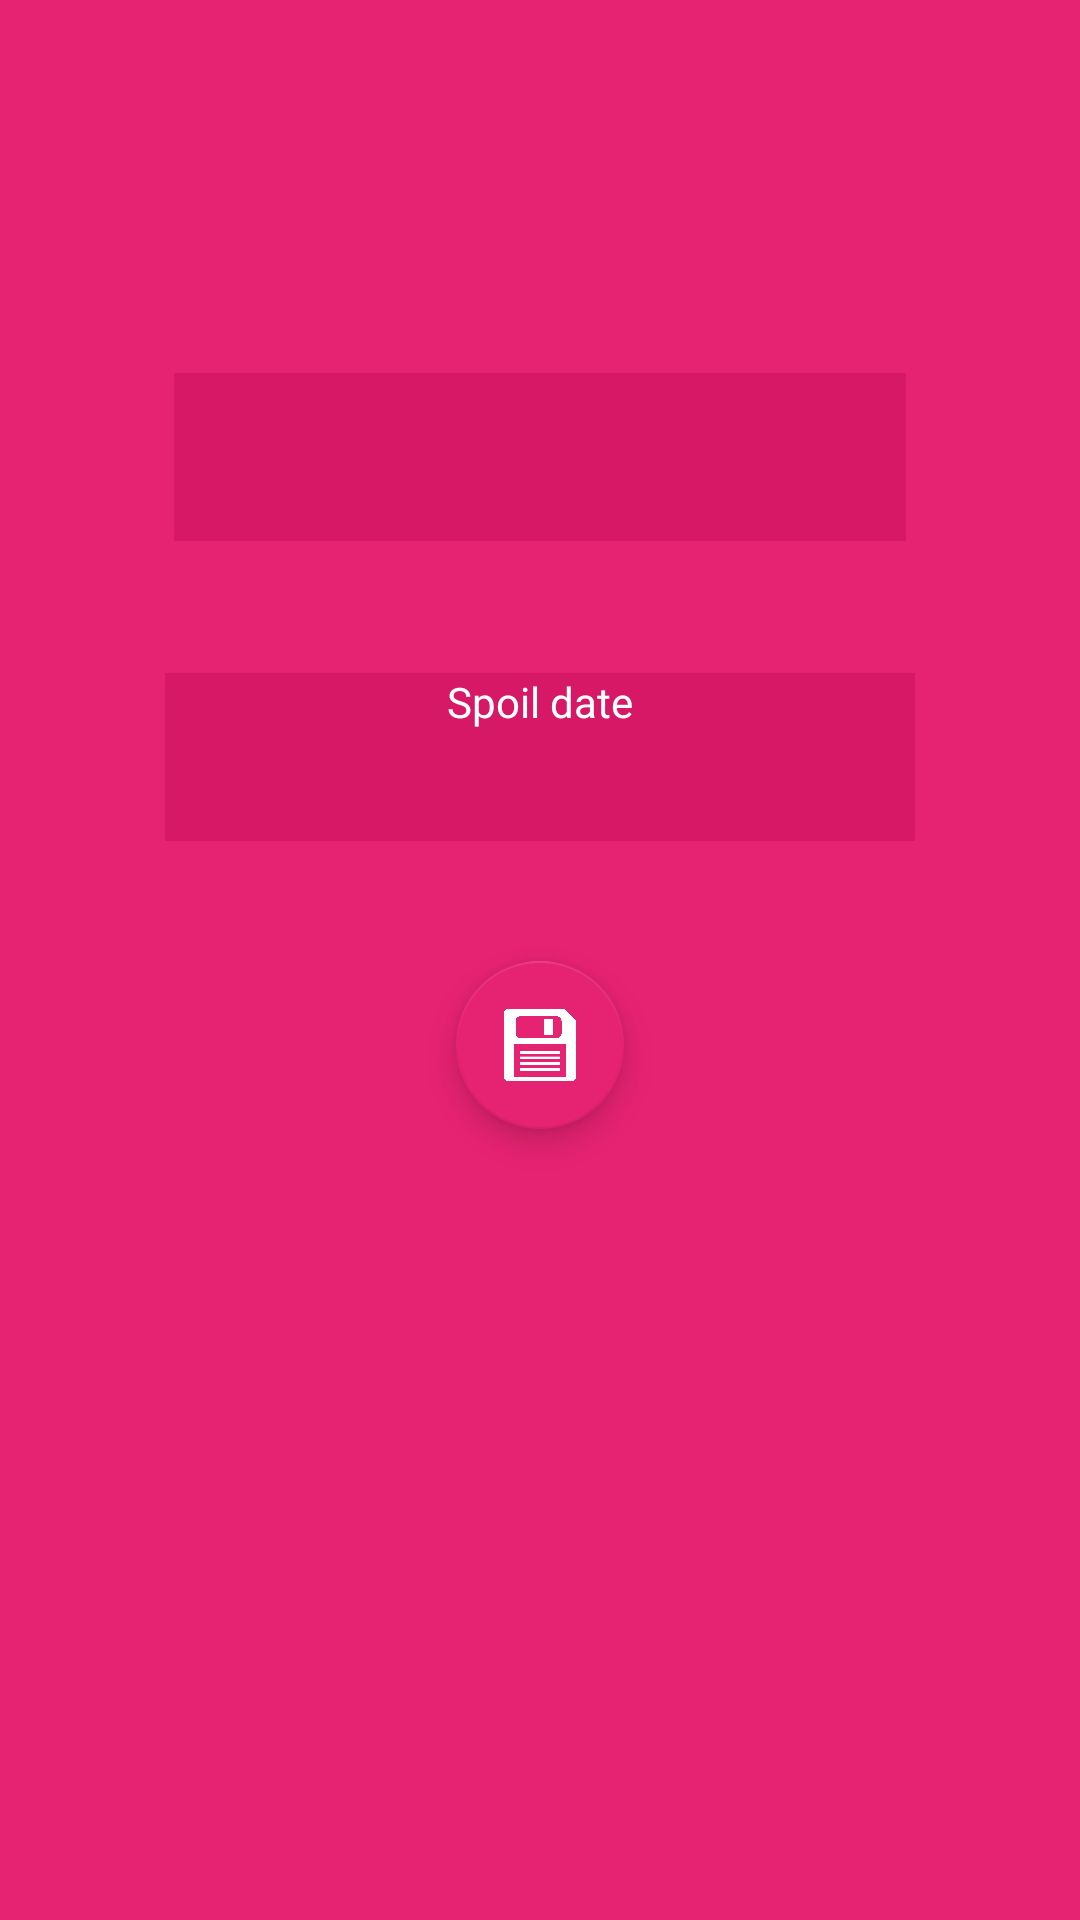

Locate icon controls on the screen. Image size 1080*1920, boxes as (x1, y1, x2, y2).
save: (459, 961, 621, 1081)
